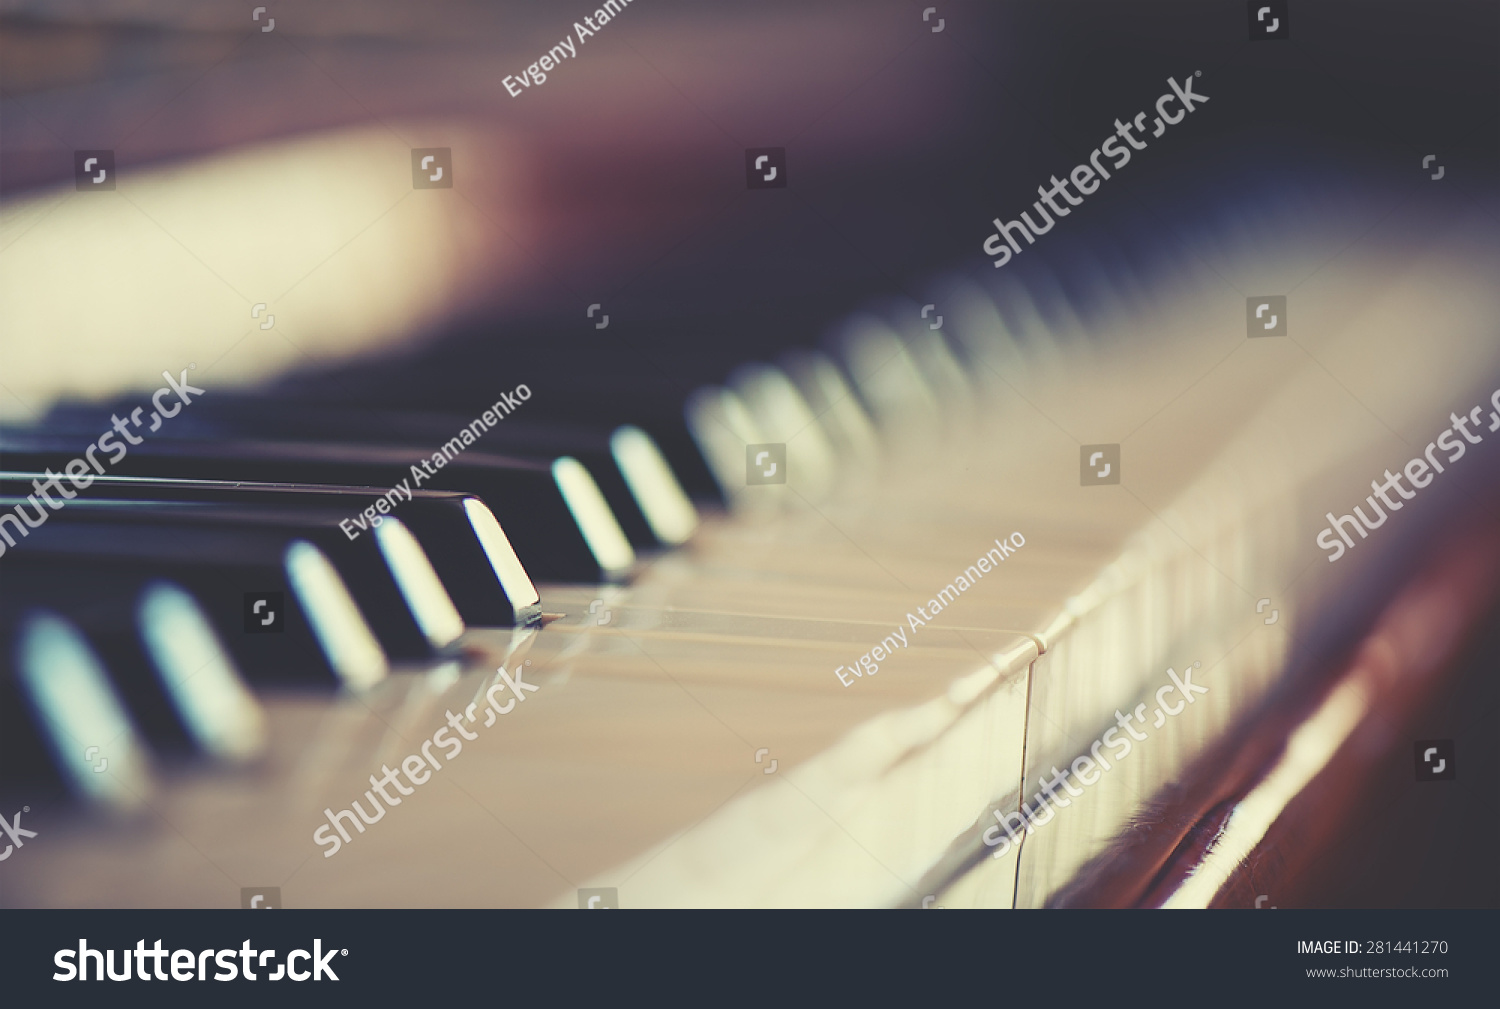Piano: (1, 60, 1488, 904)
